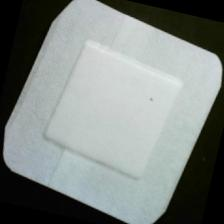Dressing: (1, 1, 224, 224)
F_Body: (141, 92, 164, 116)
